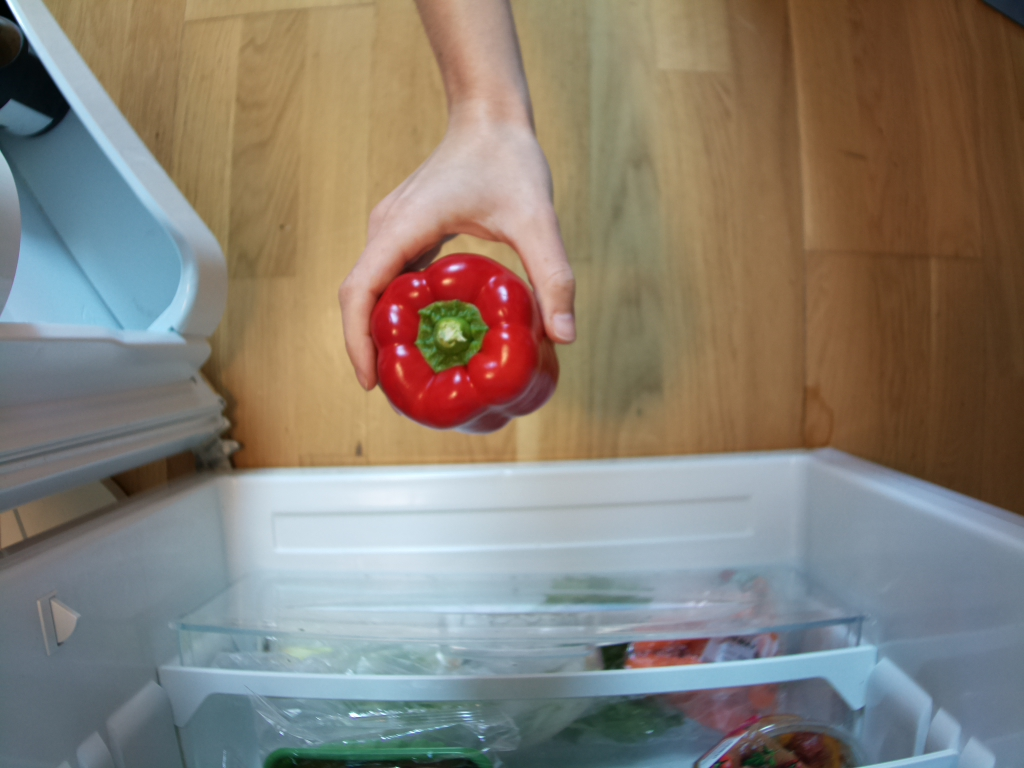pepper: (369, 250, 564, 439)
